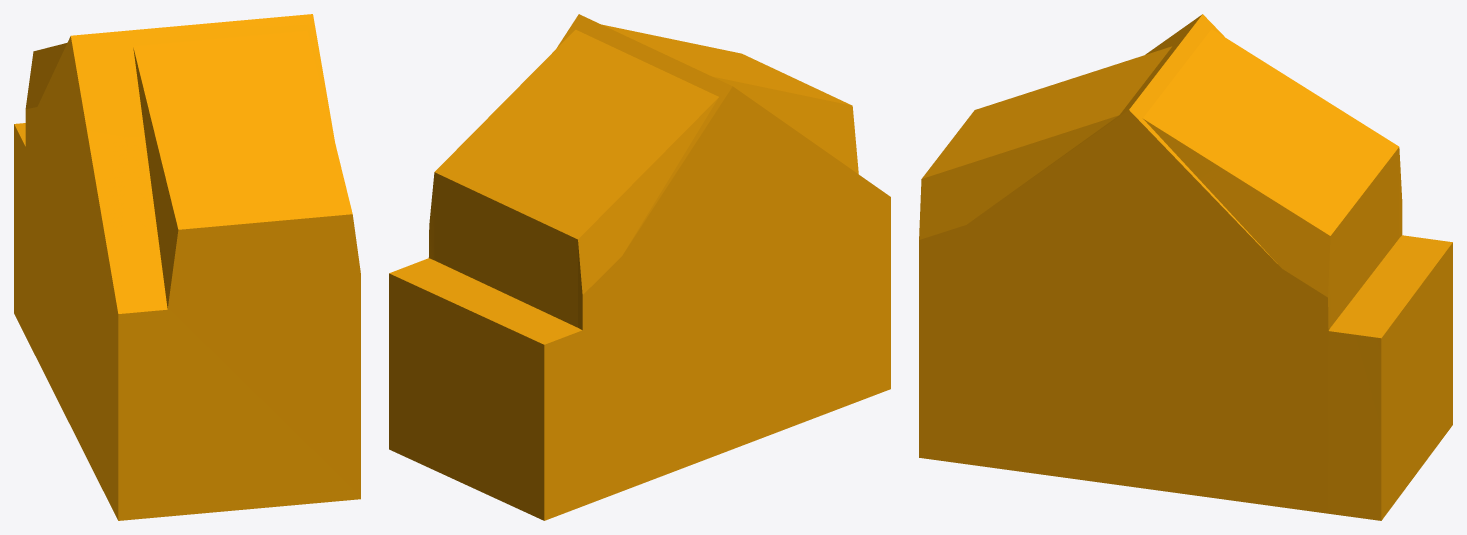
The model's file is DEHB01ALj0003A8O.gltf.
3 renders of one model, left to right at view 1: azimuth 30°, elevation 25°; view 2: azimuth 150°, elevation 25°; view 3: azimuth 270°, elevation 25°, orthographic. The views are drawn at different scales.
Parts seen in each view (by area): view 1: Z_UP; view 2: Z_UP; view 3: Z_UP.
Part boxes in pixels (x1,y1,x2,y2): Z_UP: [14, 14, 360, 520]; Z_UP: [389, 14, 890, 520]; Z_UP: [919, 14, 1452, 520].
Size of the model in its own units: 7.05 by 7.77 by 9.98.
